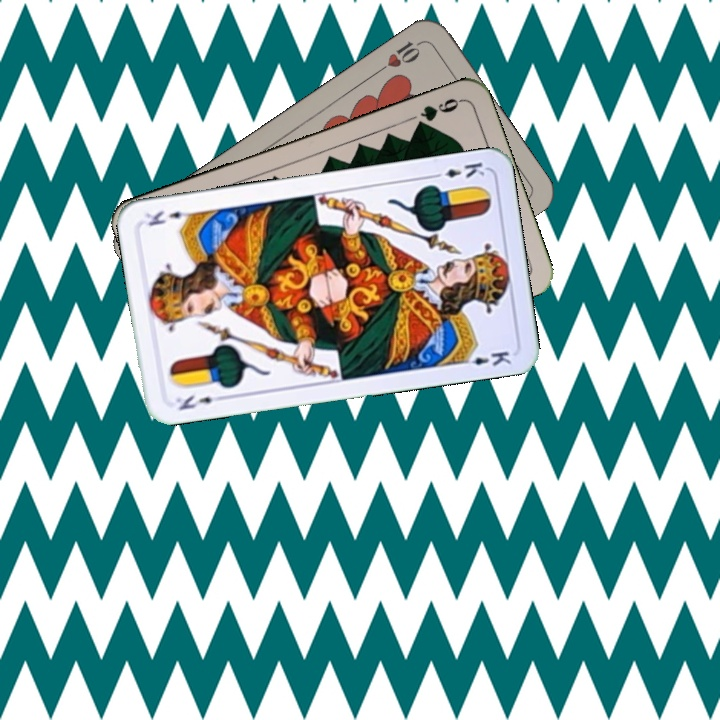EK: (428, 158, 487, 181), (171, 391, 227, 413)
G9: (411, 94, 465, 132)
H10: (373, 37, 425, 76)
